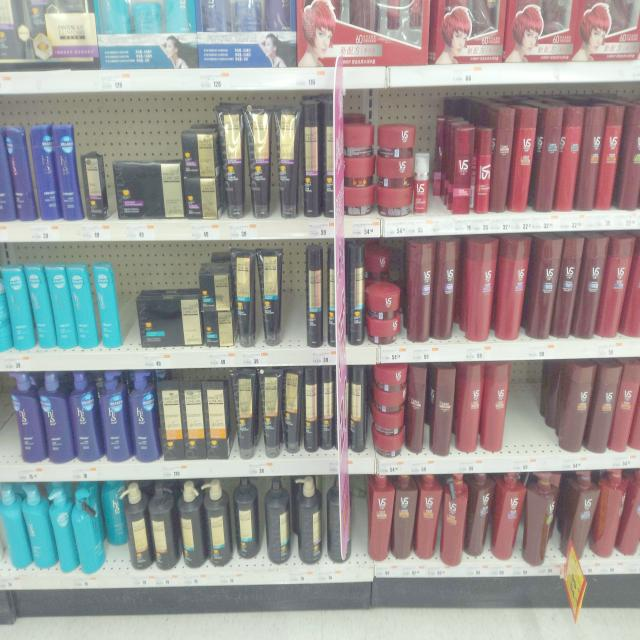empty_space: (518, 363, 547, 451), (286, 258, 306, 342), (119, 259, 137, 345), (0, 389, 13, 468), (112, 534, 128, 582)
